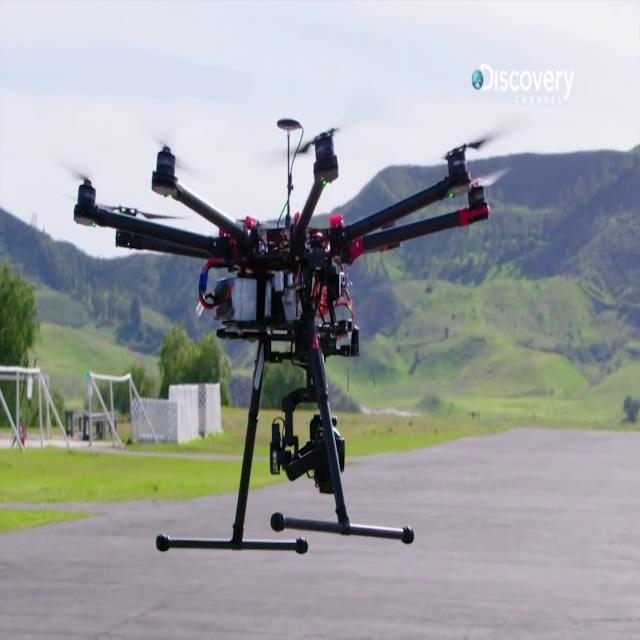drone: (63, 87, 515, 578)
